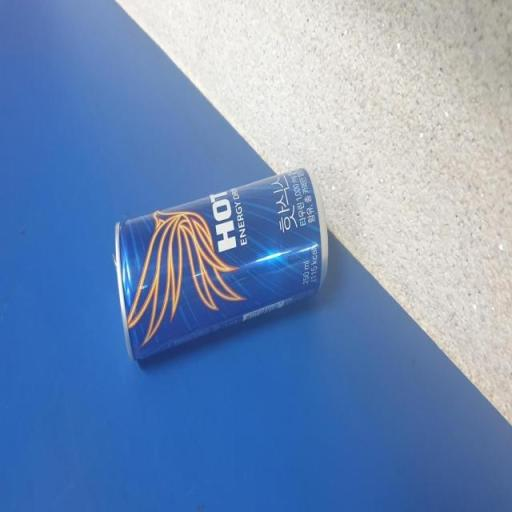metal: (96, 146, 341, 382)
